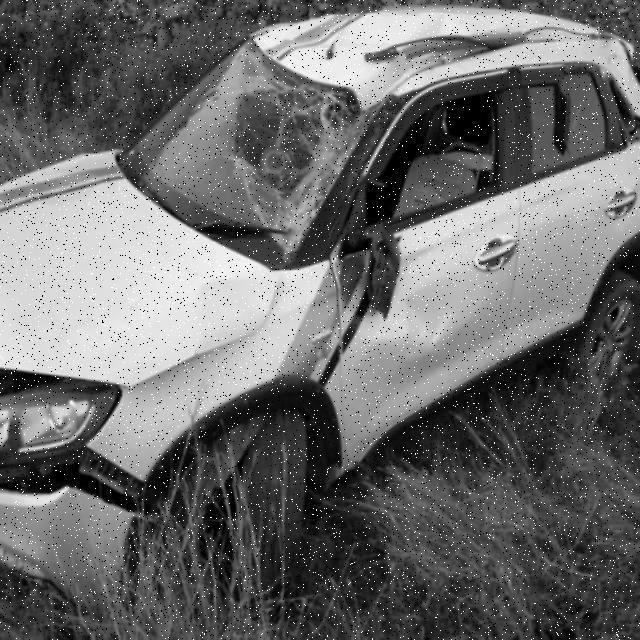Front-windscreen-damage: (122, 55, 369, 251)
Headlight-damage: (0, 350, 132, 479)
doorouter-dent: (339, 194, 517, 460)
roof-dent: (268, 4, 639, 97)
